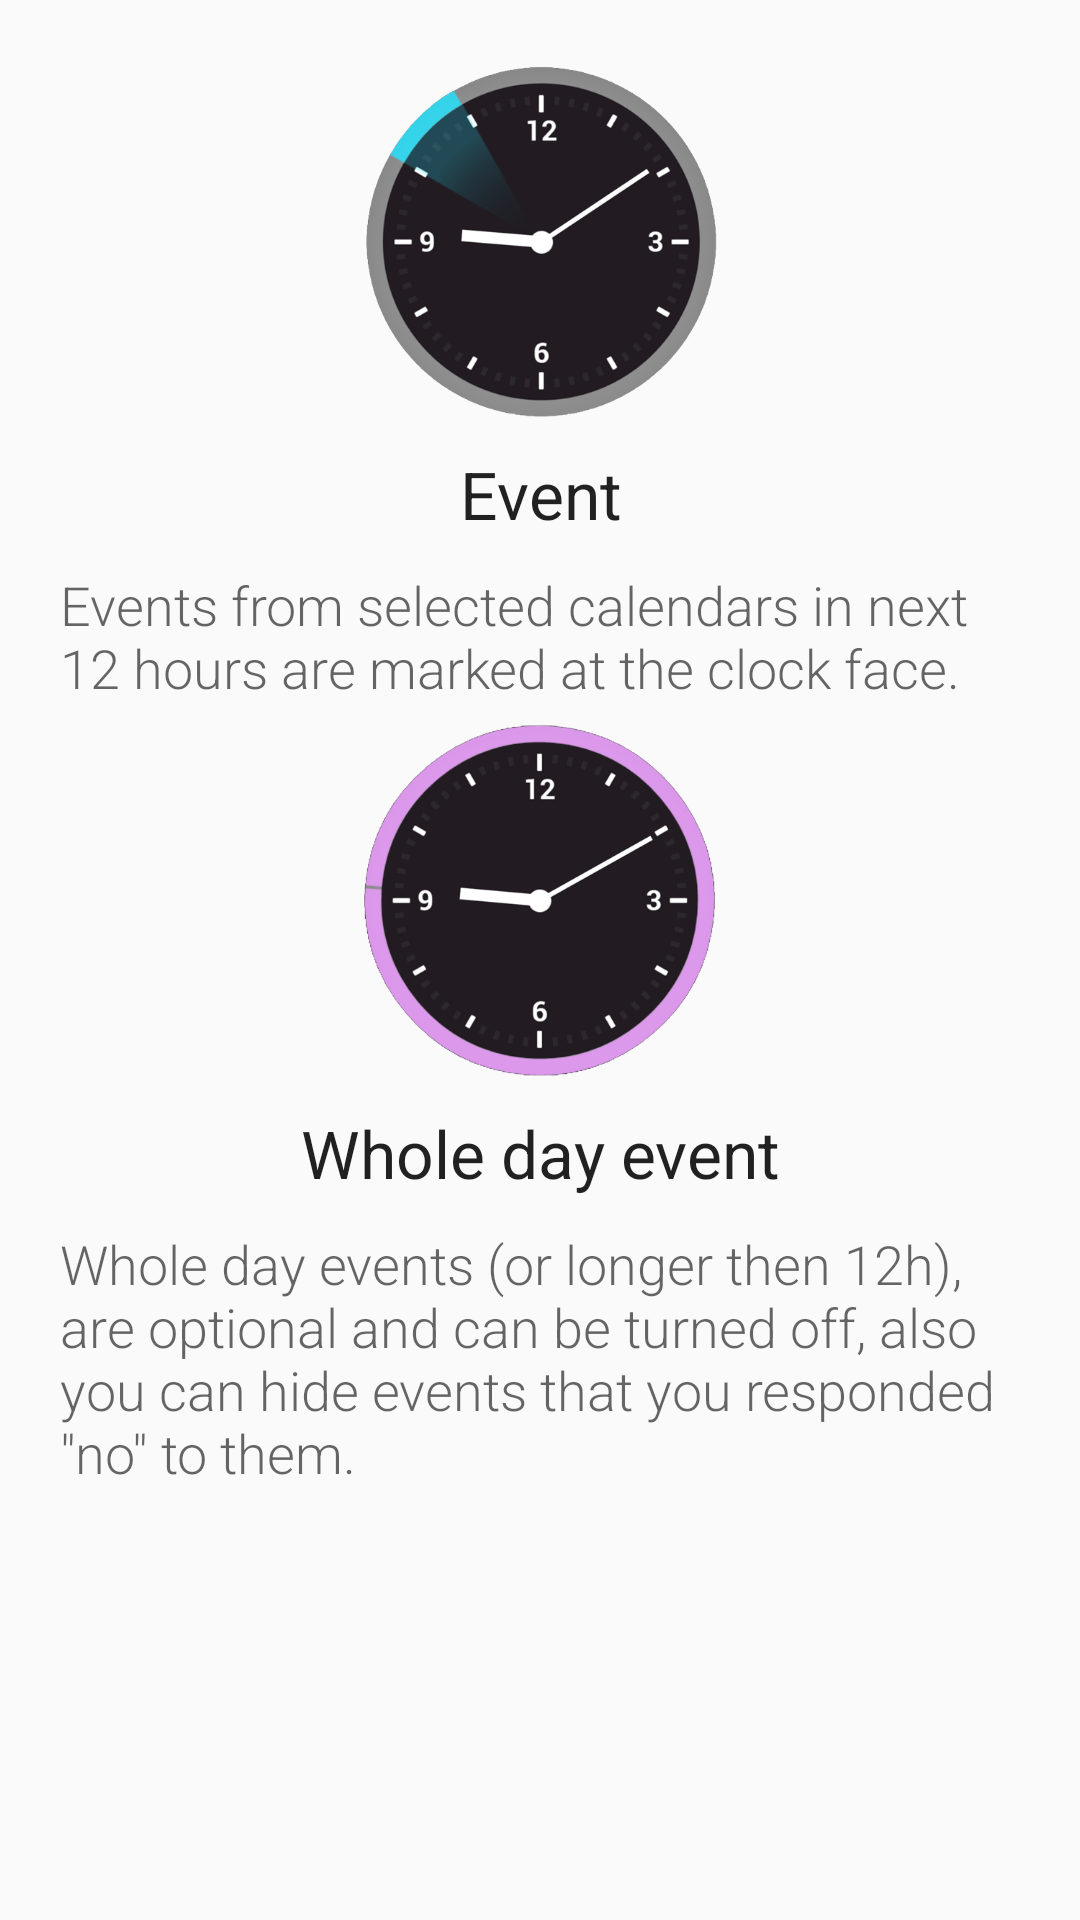

Named icons in this screenshot (1080*1920) and their centers, point (x, y):
clock full: point (539, 900)
clock one: point (541, 242)
